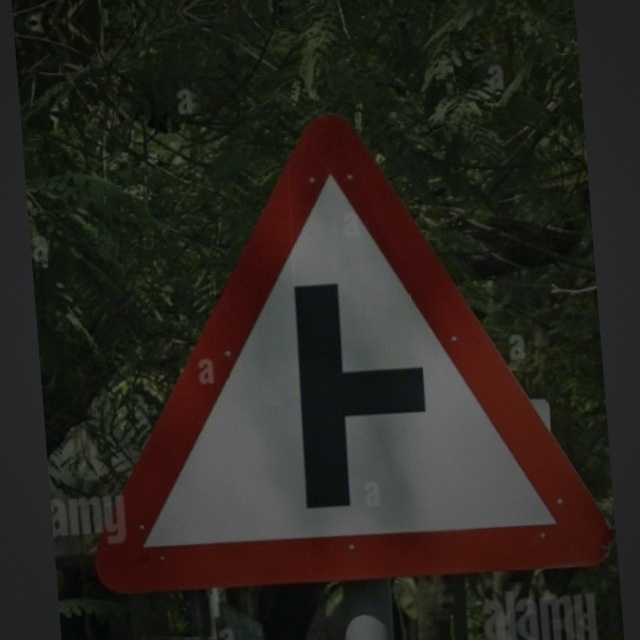Side_Road_Right: (85, 81, 597, 596)
